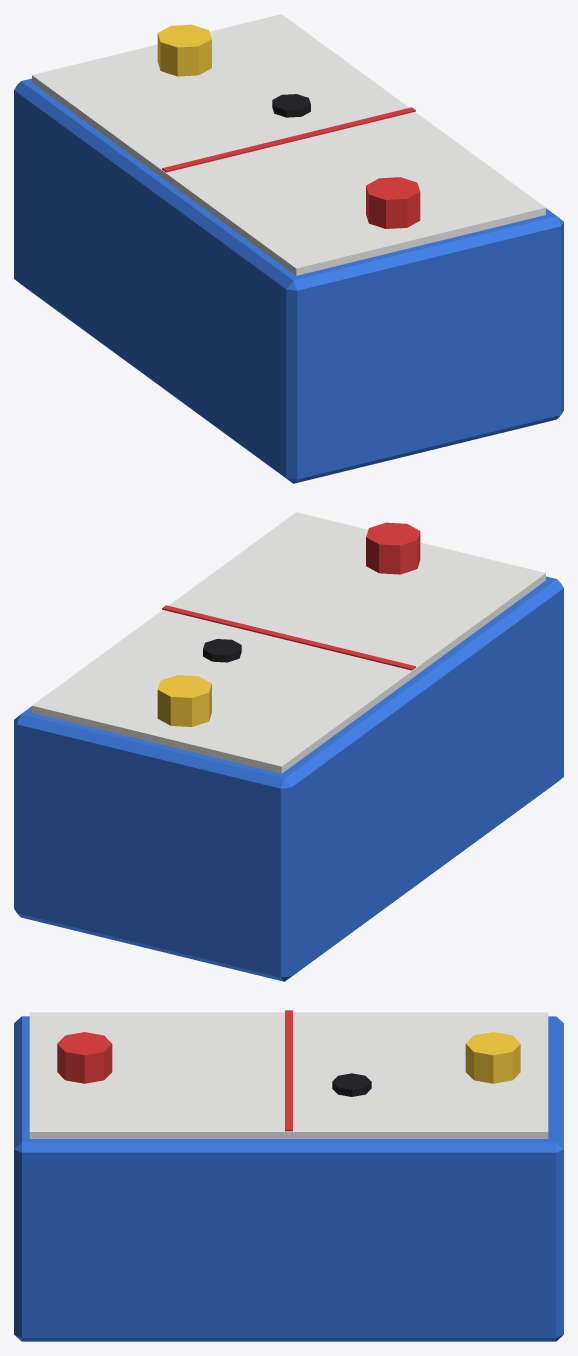
Rendered from AirHockey.fbx.
3 renders of one model, top to bottom at view 1: azimuth 30°, elevation 25°; view 2: azimuth 150°, elevation 25°; view 3: azimuth 270°, elevation 25°, orthographic.
Visible parts, largest first — view 1: AirHockey; view 2: AirHockey; view 3: AirHockey.
Part boxes in pixels (x1=…): AirHockey: x1=14, y1=14, x2=563, y2=483; AirHockey: x1=14, y1=512, x2=563, y2=981; AirHockey: x1=14, y1=1010, x2=563, y2=1341.
Bounding box in the file's own units: 4 × 3.3 × 7.
Materials: 1 (1 with a texture image).
